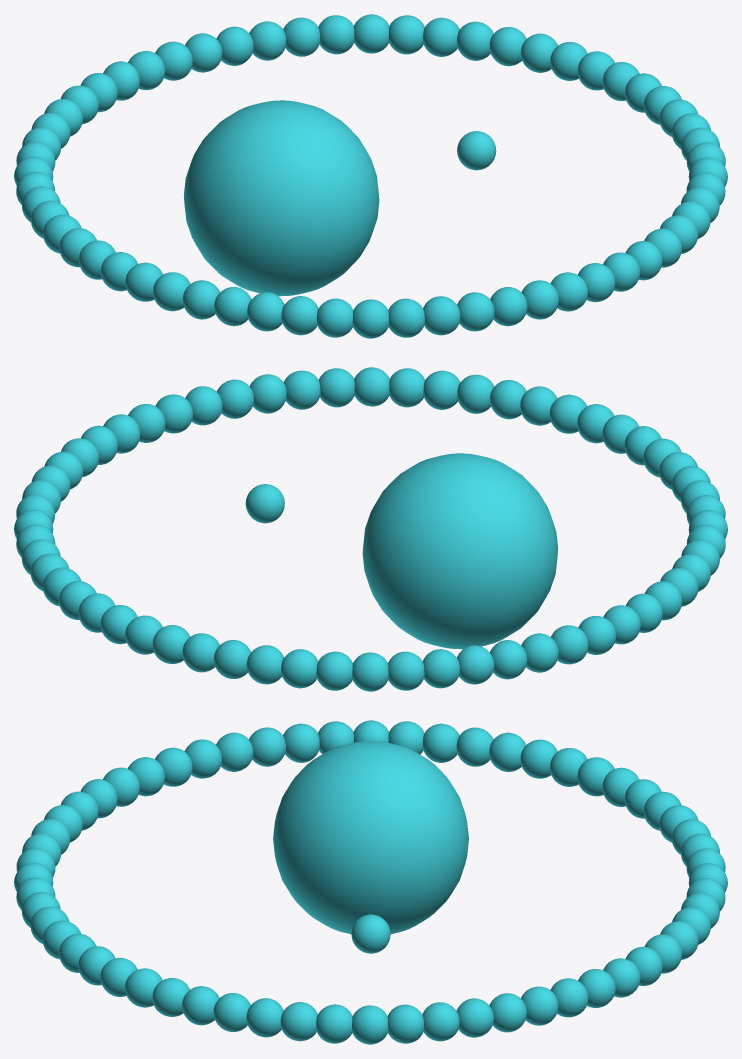
The model's file is Turquoise.fbx.
The picture shows the model from 3 angles, top to bottom: view 1: azimuth 30°, elevation 25°; view 2: azimuth 150°, elevation 25°; view 3: azimuth 270°, elevation 25°; orthographic projection.
Visible parts, largest first — view 1: Turquoise.002, Turquoise, Turquoise.001; view 2: Turquoise.002, Turquoise, Turquoise.001; view 3: Turquoise.002, Turquoise, Turquoise.001.
Boxes of the visible parts, x1,y1,x2,y2 form: Turquoise.002: [14, 14, 727, 338]; Turquoise: [183, 100, 379, 296]; Turquoise.001: [457, 131, 496, 170]; Turquoise.002: [14, 367, 727, 691]; Turquoise: [362, 453, 558, 649]; Turquoise.001: [245, 484, 284, 523]; Turquoise.002: [14, 720, 727, 1044]; Turquoise: [273, 741, 468, 934]; Turquoise.001: [351, 914, 390, 953].
Size of the model in its own units: 277 by 76.12 by 277.
